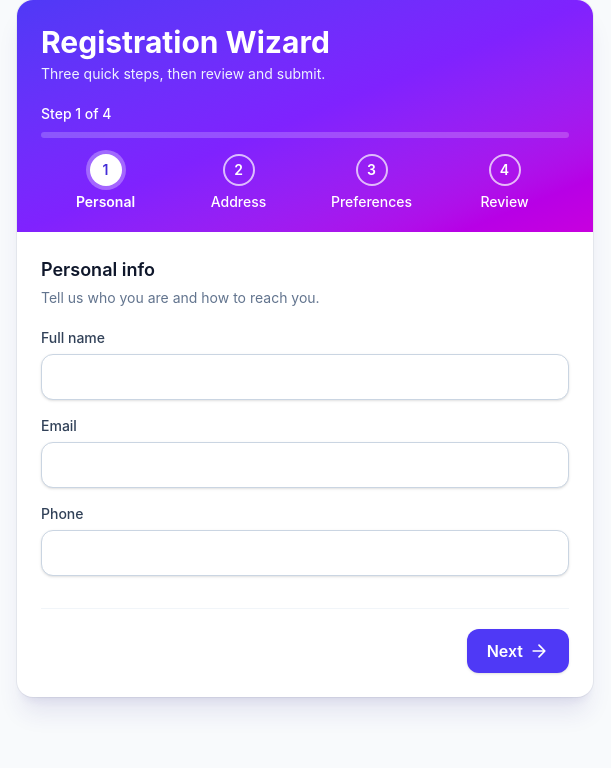
Test: WizardPage › blocks Next on an empty step, shows errors and focuses the first invalid field
This screenshot has width=611, height=768.
Expected: the text "Enter your name." is not shown
Click the button "Next" at (518, 651), box [467,629,569,673]
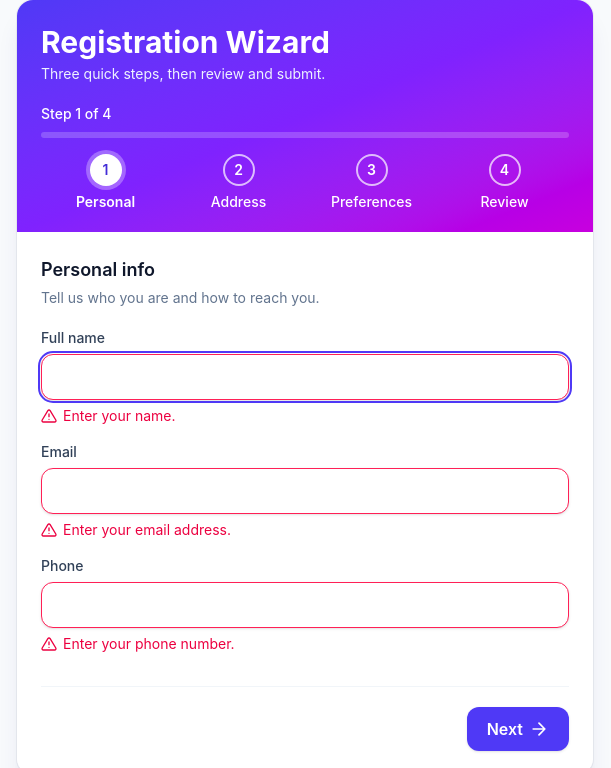
Expected: the heading "Personal info" is shown, [41,259,155,280]
Now the text "Enter your email address." is shown, box [41,521,231,538]
Now the text "Enter your phone number." is shown, box [41,635,235,652]
Type "Asha" into the field labelled "Full name" at (305, 377), box [41,354,569,400]
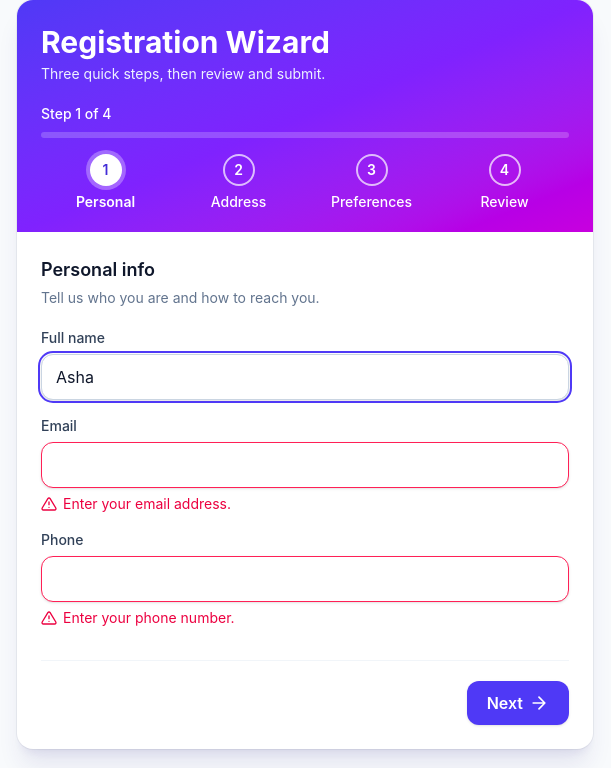
Now the text "Enter your name." is gone
